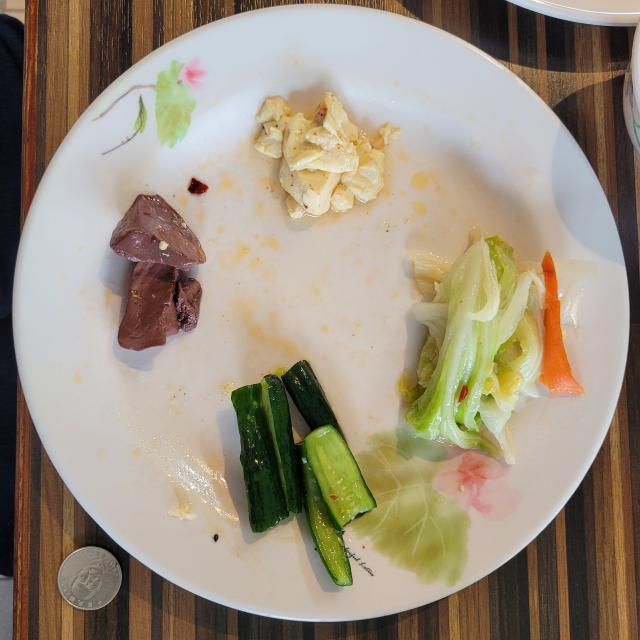cabbage: (401, 235, 596, 464)
coin: (58, 546, 121, 610)
cucumber: (231, 361, 376, 586)
pig blood curd: (110, 195, 206, 351)
